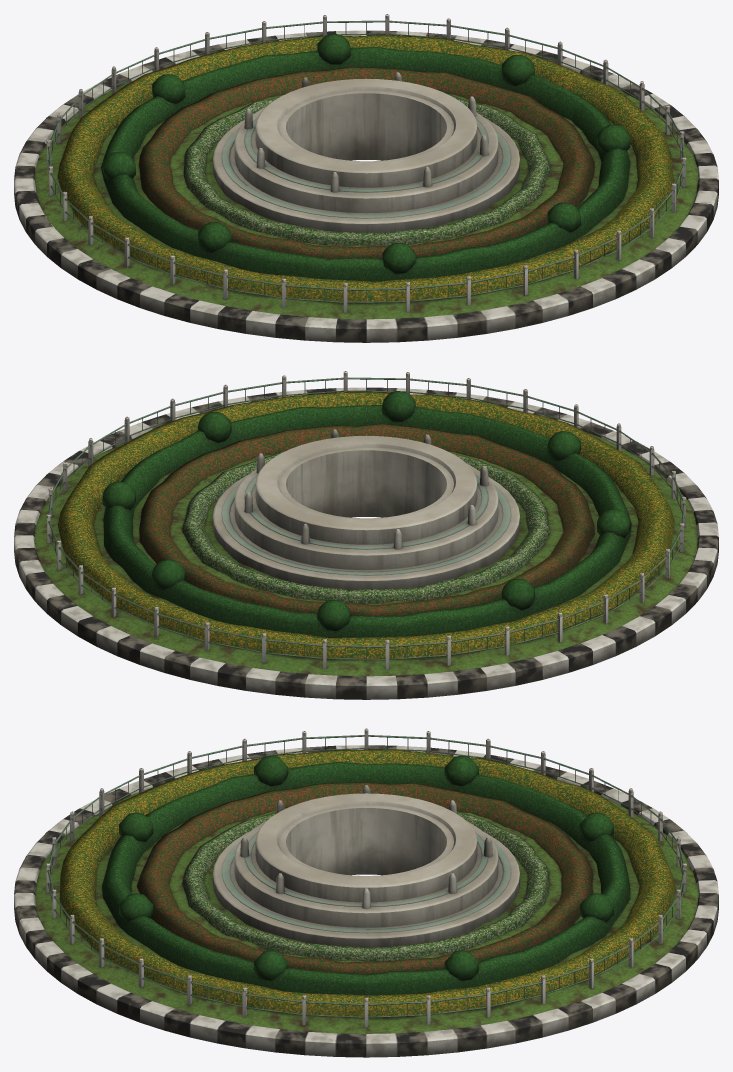
Rendered from golchattar.glb.
The picture shows the model from 3 angles, top to bottom: view 1: azimuth 30°, elevation 25°; view 2: azimuth 150°, elevation 25°; view 3: azimuth 270°, elevation 25°; orthographic projection.
Visible parts, largest first — view 1: body; view 2: body; view 3: body.
Boxes of the visible parts, box(x1,y1,x2,y2) form: body: box(14, 14, 718, 342); body: box(14, 371, 718, 699); body: box(14, 728, 718, 1057).
Bounding box in the file's own units: 14 × 1.56 × 14.
1 material, 1 textured.
